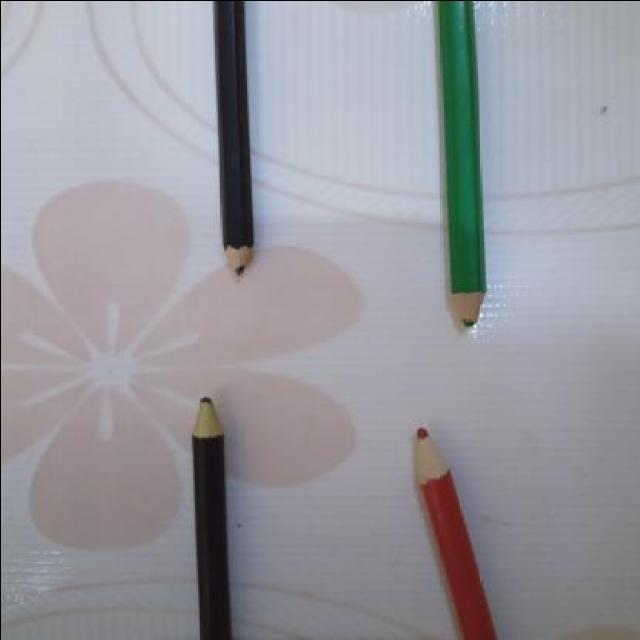pencil: (394, 416, 464, 498), (176, 387, 238, 455), (436, 276, 498, 338), (211, 230, 263, 286)
